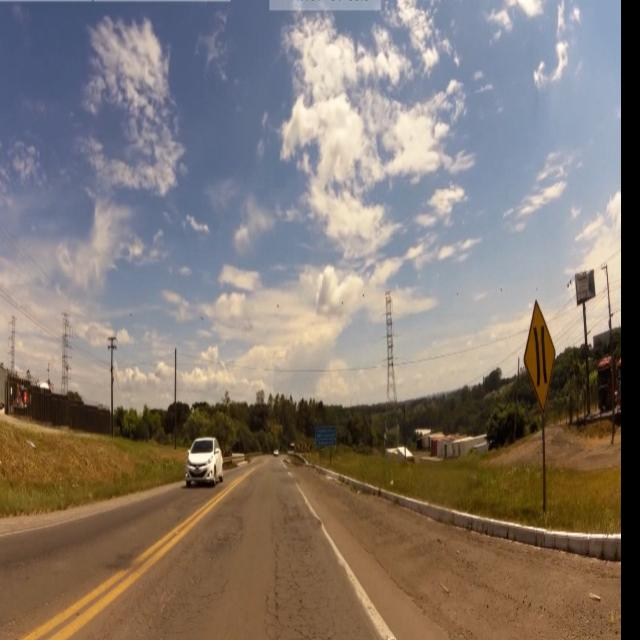A-22: (522, 301, 560, 417)
